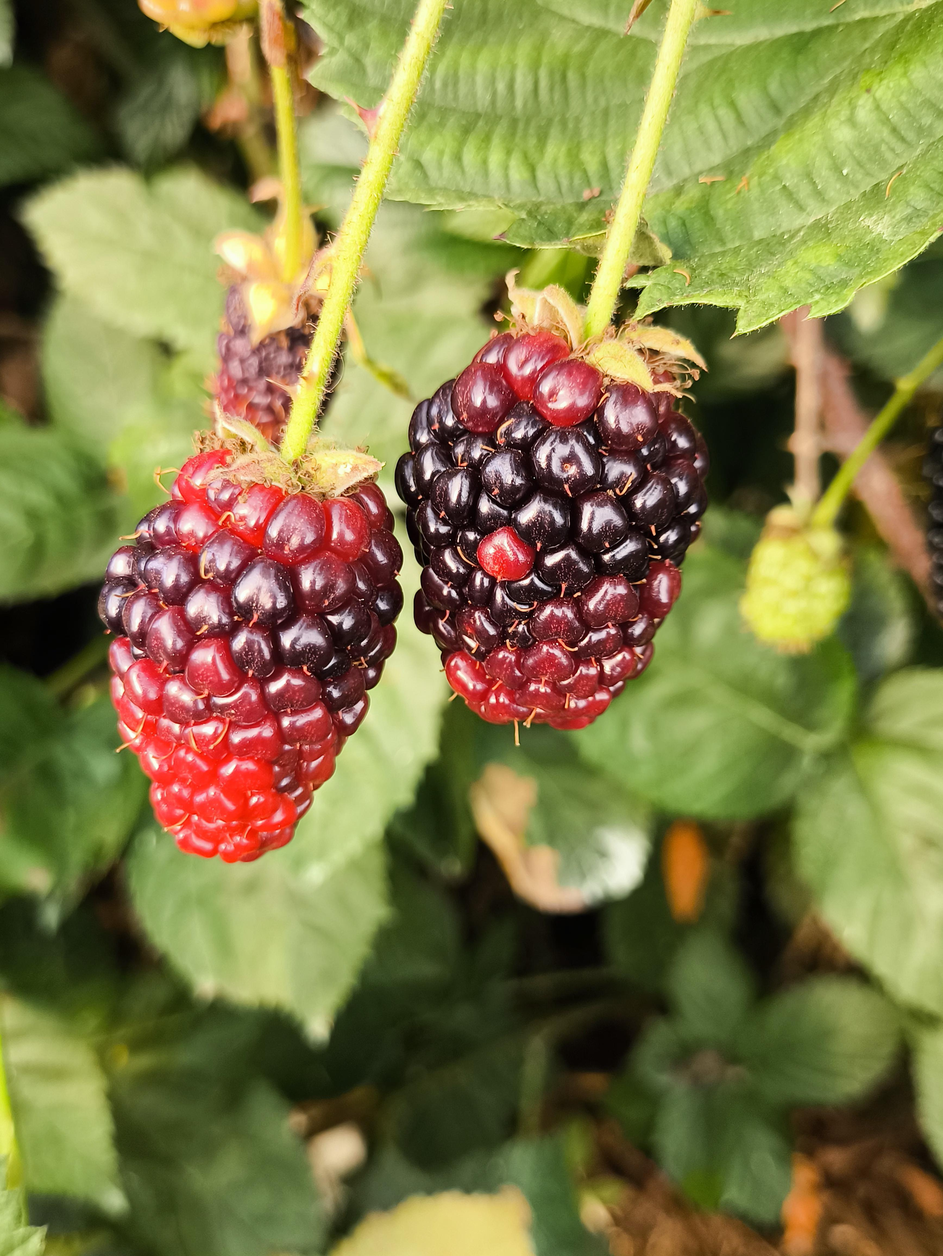marron: (406, 323, 708, 727), (107, 459, 405, 866)
